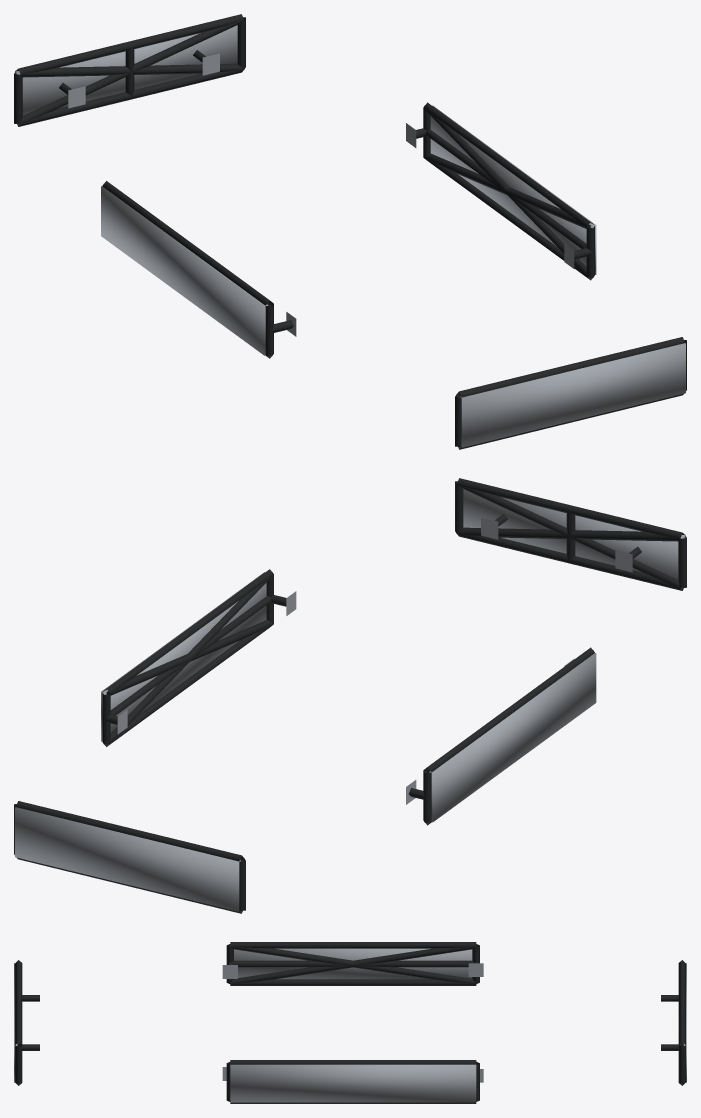
File: hoshino_senda_protecao.glb
3 views of the same model, one above another, from view 1: azimuth 30°, elevation 25°; view 2: azimuth 150°, elevation 25°; view 3: azimuth 270°, elevation 25° (orthographic). The views are drawn at different scales.
Visible parts, largest first — view 1: Protection_front_Level3_Details, Protection_left_Level3_Details, Protection_rear_Level1_Details, Protection_rear_Level3_Details, Protection_right_Level1_Details, Protection_right_Level2_Details, Protection_rear_Level2_Details, Protection_right_Level3_Details, Protection_front_Level1_Details, Protection_left_Level1_Details; view 2: Protection_rear_Level3_Details, Protection_left_Level3_Details, Protection_front_Level1_Details, Protection_front_Level3_Details, Protection_right_Level1_Details, Protection_right_Level2_Details, Protection_front_Level2_Details, Protection_right_Level3_Details, Protection_rear_Level1_Details, Protection_left_Level1_Details; view 3: Protection_right_Level3_Details, Protection_left_Level2_Details, Protection_left_Level3_Details, Protection_left_Level1_Details, Protection_right_Level1_Details, Protection_rear_Level1_Details, Protection_front_Level1_Details.
Part boxes in pixels (x1,y1,x2,y2): Protection_front_Level3_Details: (460,343,685,447); Protection_left_Level3_Details: (101,186,268,355); Protection_rear_Level1_Details: (14,14,245,126); Protection_rear_Level3_Details: (15,25,237,115); Protection_right_Level1_Details: (406,102,594,280); Protection_right_Level2_Details: (423,108,593,279); Protection_rear_Level2_Details: (16,20,243,125); Protection_right_Level3_Details: (430,105,596,274); Protection_front_Level1_Details: (455,337,686,449); Protection_left_Level1_Details: (102,181,296,358); Protection_rear_Level3_Details: (15,807,240,911); Protection_left_Level3_Details: (429,653,596,822); Protection_front_Level1_Details: (455,478,686,590); Protection_front_Level3_Details: (463,489,685,579); Protection_right_Level1_Details: (102,569,296,746); Protection_right_Level2_Details: (103,575,273,746); Protection_front_Level2_Details: (457,484,684,589); Protection_right_Level3_Details: (101,572,266,741); Protection_rear_Level1_Details: (14,801,245,913); Protection_left_Level1_Details: (406,647,594,825); Protection_right_Level3_Details: (230,1064,476,1102); Protection_left_Level2_Details: (230,945,476,984); Protection_left_Level3_Details: (234,948,472,979); Protection_left_Level1_Details: (222,942,483,985); Protection_right_Level1_Details: (222,1060,483,1103); Protection_rear_Level1_Details: (661,960,685,1085); Protection_front_Level1_Details: (15,960,39,1085).
Size of the model in its own units: 2.1 by 0.354 by 4.9.
Materials: 1 (1 with a texture image).
